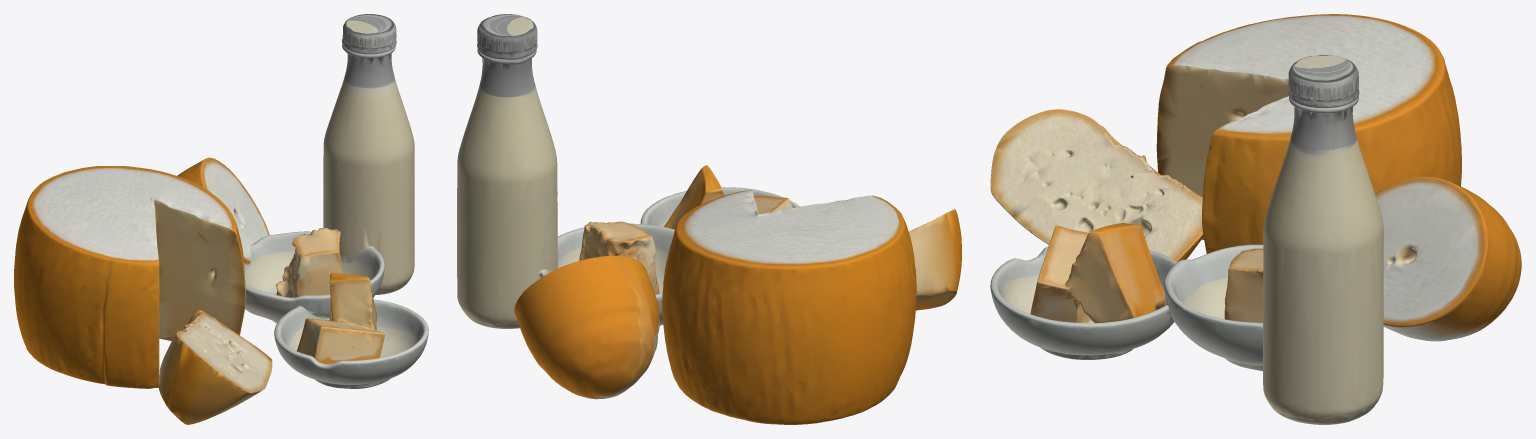
File: dairy-display.glb
3 renders of one model, left to right at view 1: azimuth 30°, elevation 25°; view 2: azimuth 150°, elevation 25°; view 3: azimuth 270°, elevation 25°, orthographic. The views are drawn at different scales.
Size of the model in its own units: 1.9 by 1.23 by 1.74.
1 material, 1 textured.
